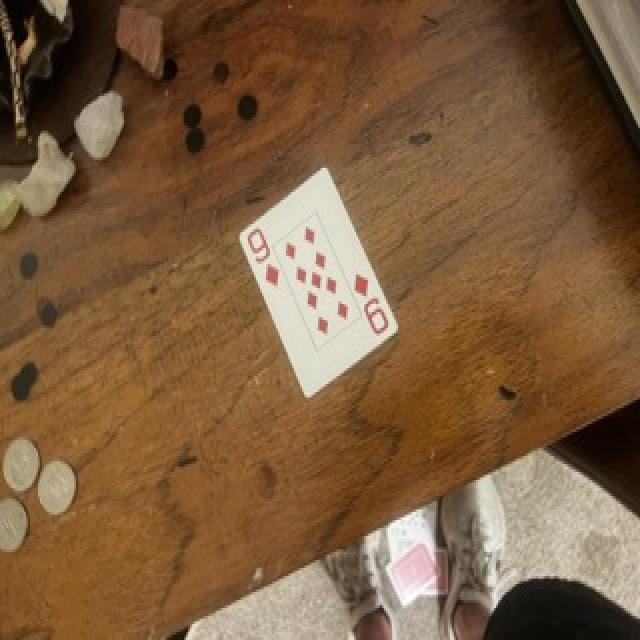9 of diamonds: (240, 168, 398, 397)
